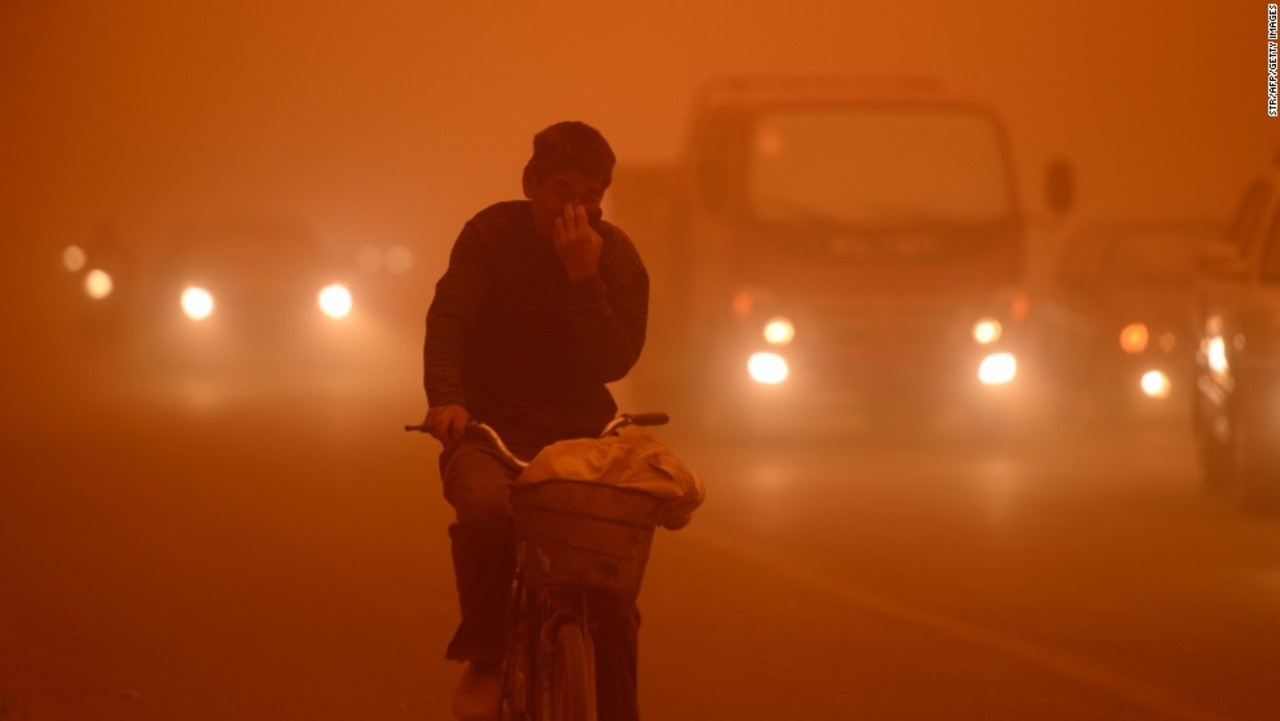bicycle: (400, 396, 706, 719)
car: (1038, 217, 1221, 424), (158, 203, 363, 362), (1194, 124, 1275, 523)
person: (408, 124, 700, 683)
truck: (594, 63, 1074, 457)
